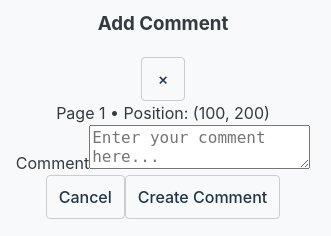
Scenario: CommentCreator › Form Submission › shows loading state during submission
Step 1. Type "Test comment" into the text box labelled "Comment" → (200, 147), box [89,125,310,169]
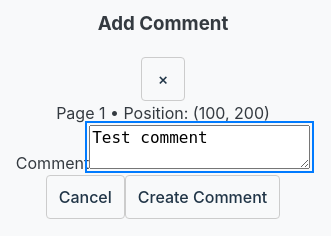
Step 2. Click the button "Create Comment" → (203, 197), box [125,175,280,219]
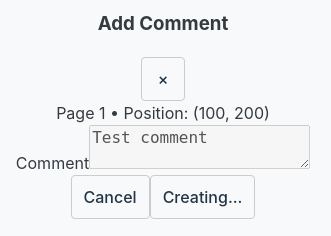
Expected: the button "Creating..." is disabled, [150,175,255,219]
Expected: the button "Cancel" is disabled, [70,175,150,219]
